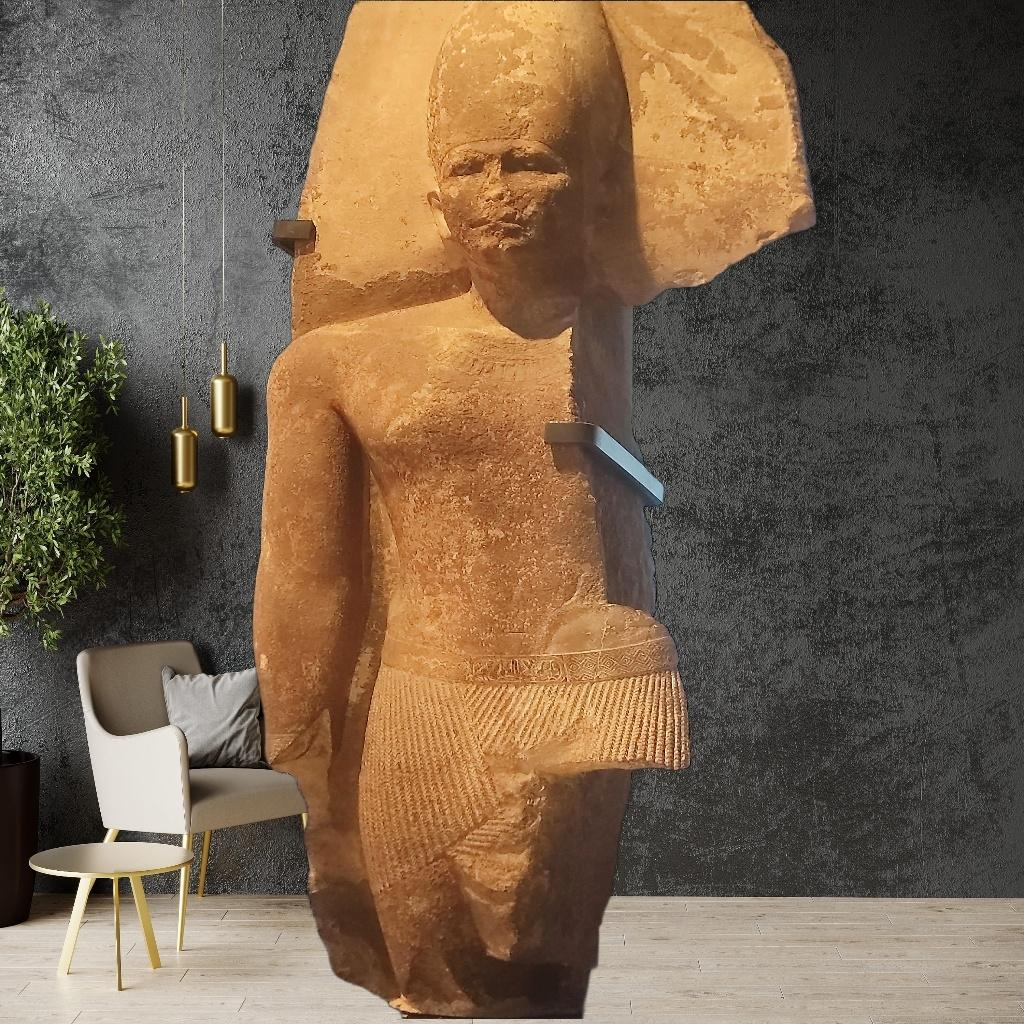Statue of Snefru: (248, 1, 820, 1019)
